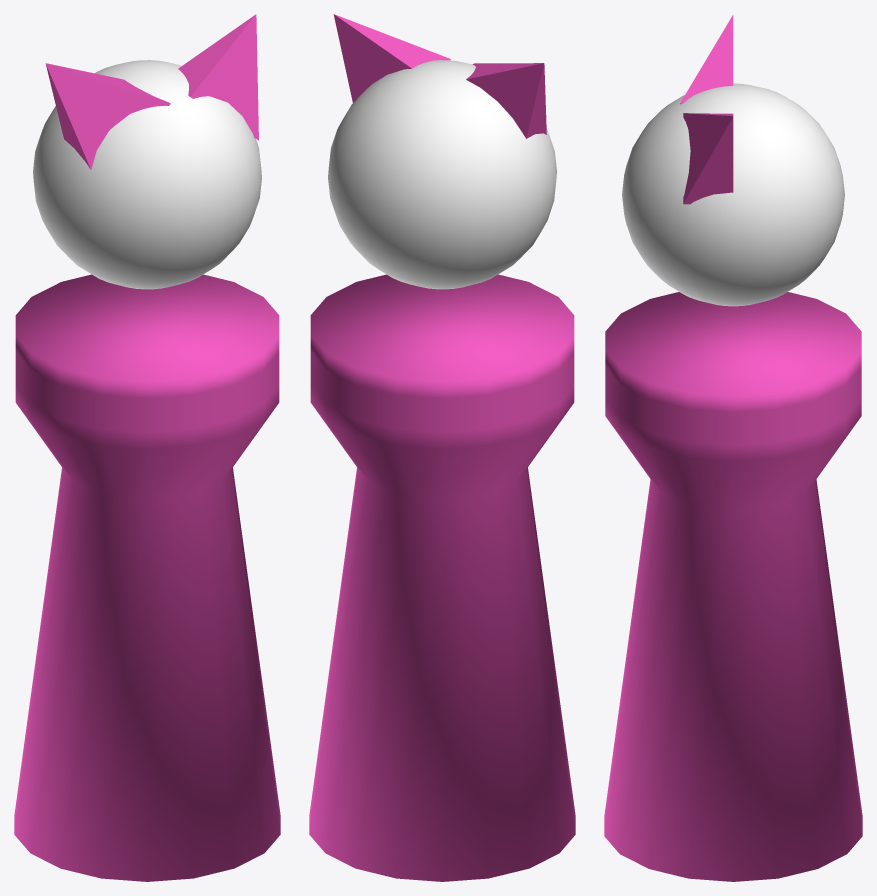
The model's file is figure2.FBX.
The picture shows the model from 3 angles, left to right: view 1: azimuth 30°, elevation 25°; view 2: azimuth 150°, elevation 25°; view 3: azimuth 270°, elevation 25°; orthographic projection. The views are drawn at different scales.
Visible parts, largest first — view 1: Cylinder001, Sphere001, Pyramid001, Pyramid002; view 2: Cylinder001, Sphere001, Pyramid002, Pyramid001; view 3: Cylinder001, Sphere001, Pyramid002, Pyramid001.
Part boxes in pixels (x1,y1,x2,y2): Cylinder001: [14, 274, 280, 881]; Sphere001: [33, 60, 261, 289]; Pyramid001: [45, 63, 170, 169]; Pyramid002: [178, 14, 258, 140]; Cylinder001: [309, 274, 575, 881]; Sphere001: [328, 60, 556, 289]; Pyramid002: [333, 14, 450, 102]; Pyramid001: [466, 63, 546, 138]; Cylinder001: [604, 292, 862, 881]; Sphere001: [622, 83, 844, 306]; Pyramid002: [683, 113, 733, 204]; Pyramid001: [680, 15, 733, 104].
Bounding box in the file's own units: 70.61 × 227 × 69.54.
